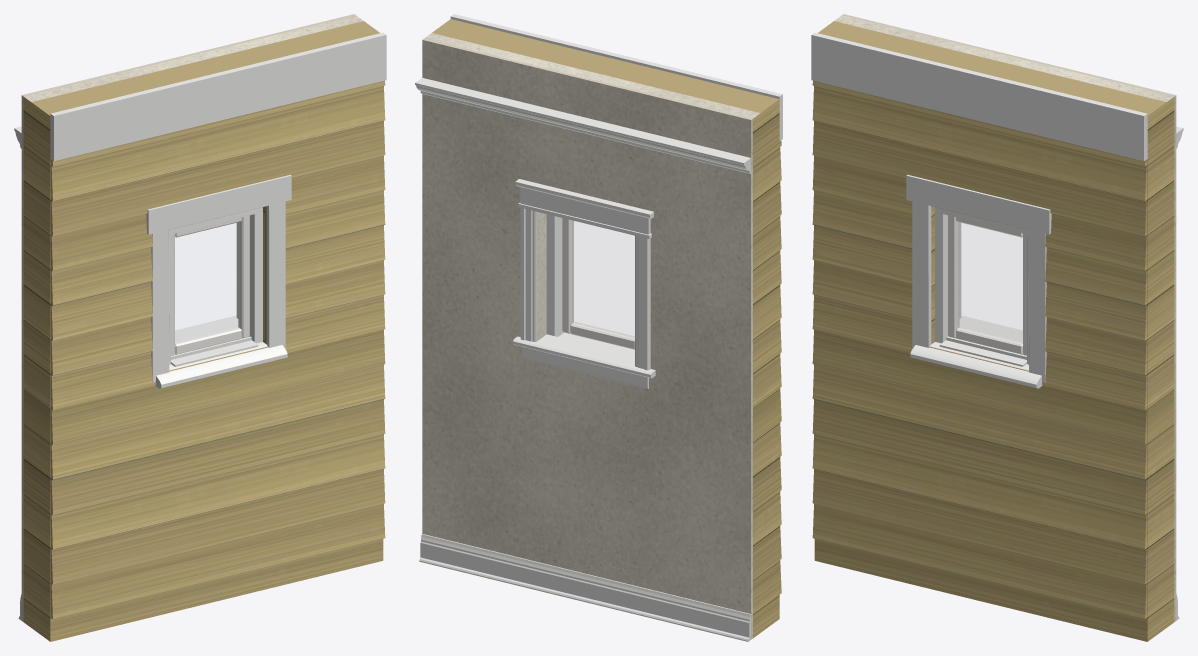
The model's file is wall_siding_upper_small_window.glb.
3 renders of one model, left to right at view 1: azimuth 30°, elevation 25°; view 2: azimuth 150°, elevation 25°; view 3: azimuth 330°, elevation 25°, orthographic.
Parts seen in each view (by area): view 1: wall_siding_upper_small_window_siding, wall_siding_upper_small_window_trim, folha_glass, wall_siding_upper_small_window_plaster, folha_sash, wall_siding_upper_small_window_frame, molduras; view 2: wall_siding_upper_small_window_plaster, molduras, wall_siding_upper_small_window_siding, folha_glass, wall_siding_upper_small_window_trim, folha_sash, wall_siding_upper_small_window_frame; view 3: wall_siding_upper_small_window_siding, wall_siding_upper_small_window_trim, folha_glass, wall_siding_upper_small_window_plaster, folha_sash, wall_siding_upper_small_window_frame, molduras.
Part boxes in pixels (bbox=[...]): wall_siding_upper_small_window_siding: bbox=[23, 21, 385, 641]; wall_siding_upper_small_window_trim: bbox=[50, 32, 386, 388]; folha_glass: bbox=[175, 222, 239, 342]; wall_siding_upper_small_window_plaster: bbox=[21, 14, 363, 621]; folha_sash: bbox=[171, 215, 249, 355]; wall_siding_upper_small_window_frame: bbox=[169, 207, 262, 364]; molduras: bbox=[14, 126, 238, 620]; wall_siding_upper_small_window_plaster: bbox=[422, 33, 760, 639]; molduras: bbox=[415, 77, 750, 641]; wall_siding_upper_small_window_siding: bbox=[432, 19, 781, 638]; folha_glass: bbox=[572, 221, 634, 337]; wall_siding_upper_small_window_trim: bbox=[450, 14, 782, 355]; folha_sash: bbox=[562, 218, 634, 349]; wall_siding_upper_small_window_frame: bbox=[546, 214, 563, 336]; wall_siding_upper_small_window_siding: bbox=[812, 21, 1174, 641]; wall_siding_upper_small_window_trim: bbox=[811, 32, 1147, 388]; folha_glass: bbox=[958, 222, 1022, 342]; wall_siding_upper_small_window_plaster: bbox=[834, 14, 1176, 621]; folha_sash: bbox=[948, 215, 1026, 355]; wall_siding_upper_small_window_frame: bbox=[935, 207, 1028, 364]; molduras: bbox=[959, 126, 1183, 620].
Size of the model in its own units: 2 by 3.04 by 0.455.
6 materials, 2 textured.
